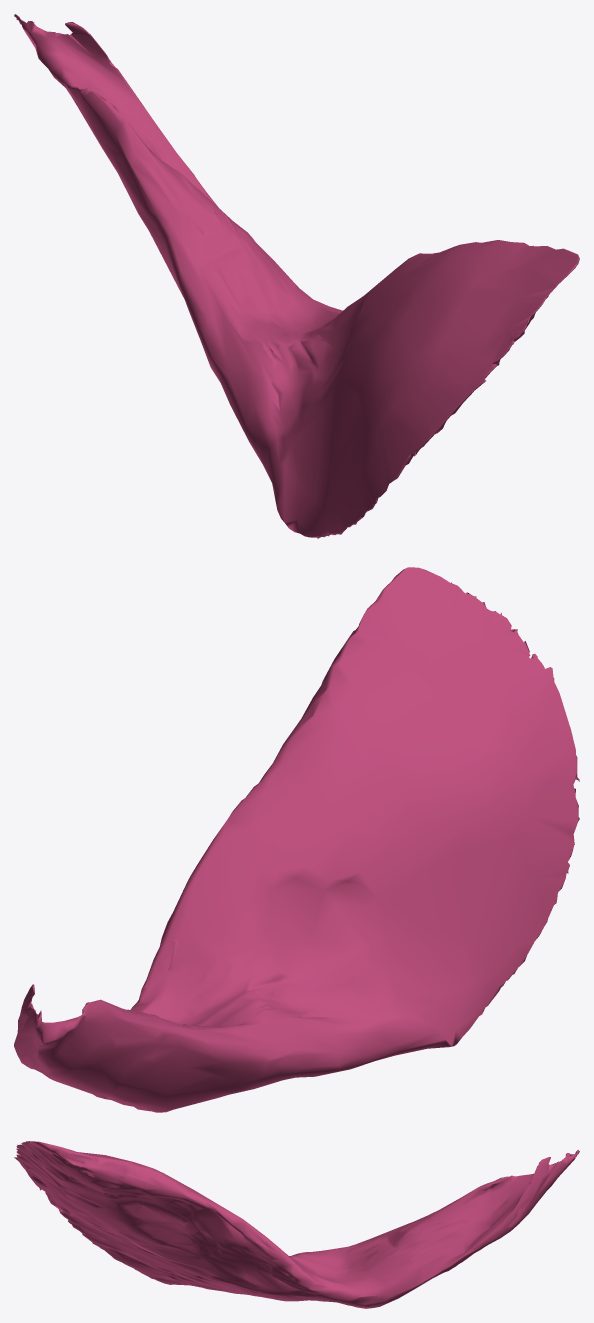
3 renders of one model, top to bottom at view 1: azimuth 30°, elevation 25°; view 2: azimuth 150°, elevation 25°; view 3: azimuth 270°, elevation 25°, orthographic. The views are drawn at different scales.
Visible parts, largest first — view 1: 右侧髂肌; view 2: 右侧髂肌; view 3: 右侧髂肌.
Part boxes in pixels (box(x1,y1,x2,y2)): 右侧髂肌: box(14, 14, 579, 538); 右侧髂肌: box(14, 567, 579, 1112); 右侧髂肌: box(14, 1141, 579, 1308).
Bounding box in the file's own units: 0.0827 × 0.127 × 0.3412.
